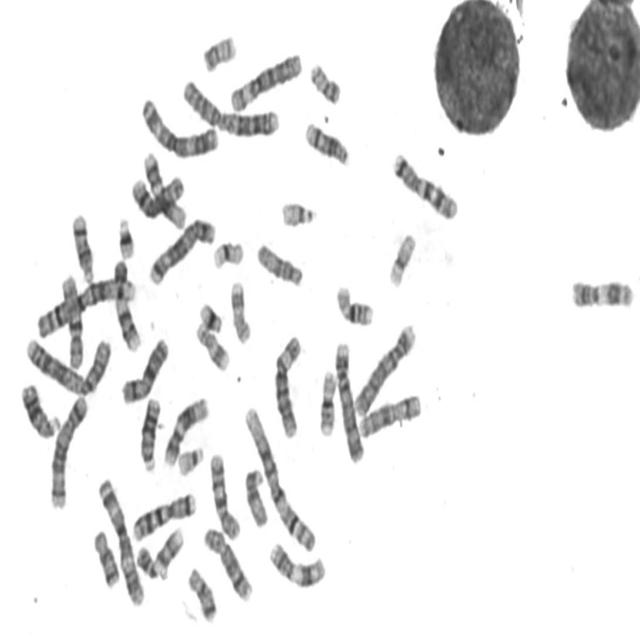A1: (241, 399, 318, 555), (33, 267, 138, 341)
A2: (180, 71, 282, 139), (21, 326, 114, 398)
A3: (94, 471, 146, 608), (138, 90, 221, 159)
B4: (351, 316, 419, 419), (332, 335, 366, 465)
B5: (145, 211, 218, 287), (46, 387, 90, 512)
C10: (206, 446, 242, 542), (58, 268, 85, 372)
C11: (265, 536, 328, 590), (568, 272, 636, 312)
C12: (140, 146, 188, 230), (161, 389, 211, 469)
C6: (227, 46, 304, 114), (270, 327, 304, 441)
C7: (390, 144, 460, 222), (128, 485, 198, 544)
C8: (200, 521, 254, 604), (128, 168, 187, 222)
C9: (109, 253, 143, 353), (134, 520, 186, 581)
D13: (17, 376, 62, 440), (136, 391, 163, 474)
D14: (302, 114, 352, 168), (68, 205, 96, 286)
D15: (253, 235, 306, 289), (241, 462, 270, 530)
E16: (332, 277, 376, 328), (316, 363, 338, 438)
E17: (192, 316, 232, 372), (227, 274, 254, 346)
E18: (185, 560, 219, 624), (90, 524, 122, 590)
F19: (386, 226, 418, 290), (209, 233, 246, 271)
F20: (306, 55, 344, 106), (199, 27, 239, 74)
G21: (114, 211, 137, 261), (196, 295, 224, 335)
G22: (278, 194, 318, 228), (175, 440, 206, 478)
X: (118, 331, 171, 406), (356, 386, 424, 441)
